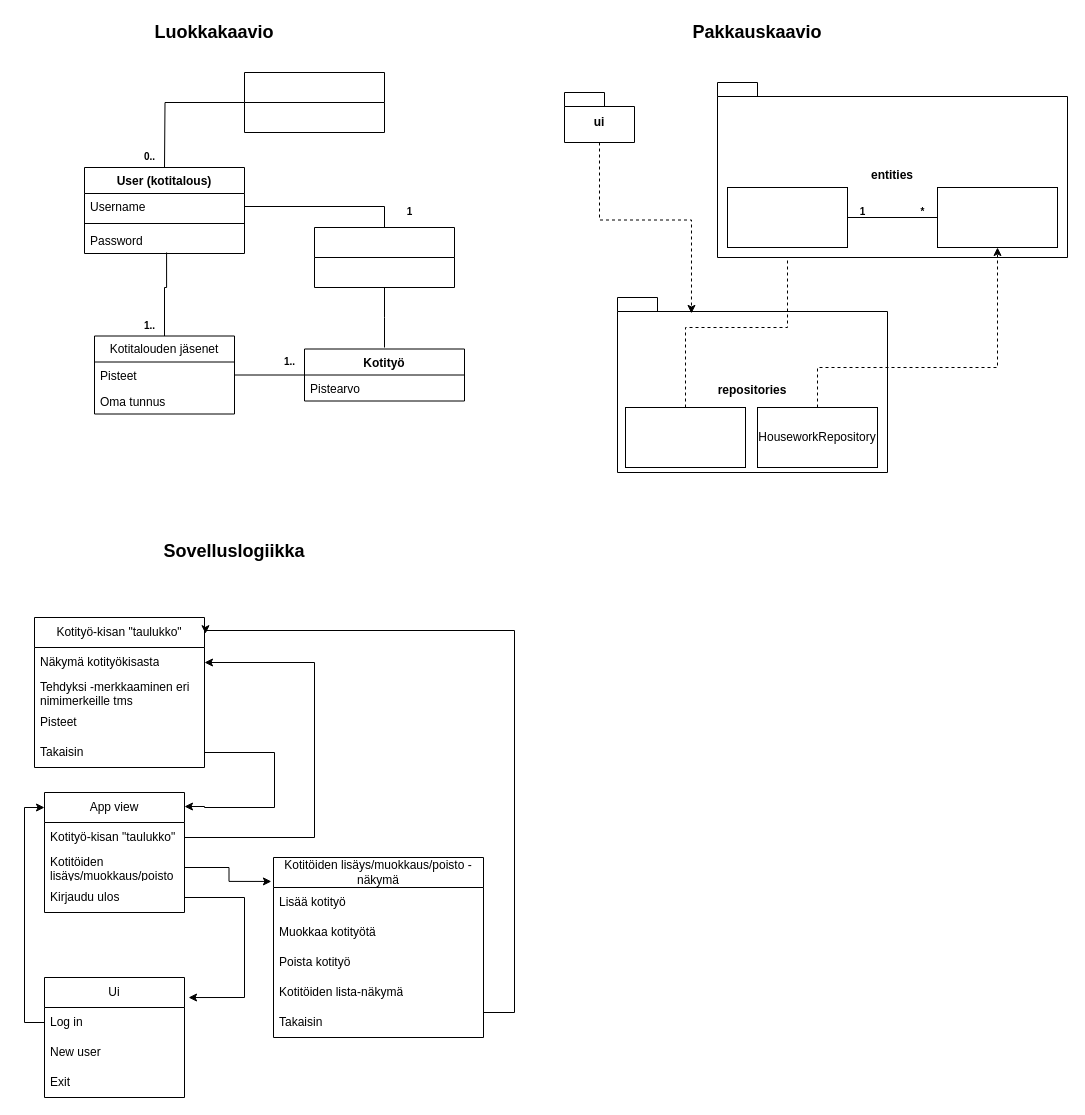
The diagram is 1085 pixels wide and 1115 high, and some of its shapes have lost their labels. Here are the shapes that lost their labels. From the top down, the centre of each, then its label:
point (314, 102): Kotityö-sovellus
point (787, 217): User
point (997, 217): Housework
point (384, 257): Kotityö-peli
point (685, 437): UserRepository
